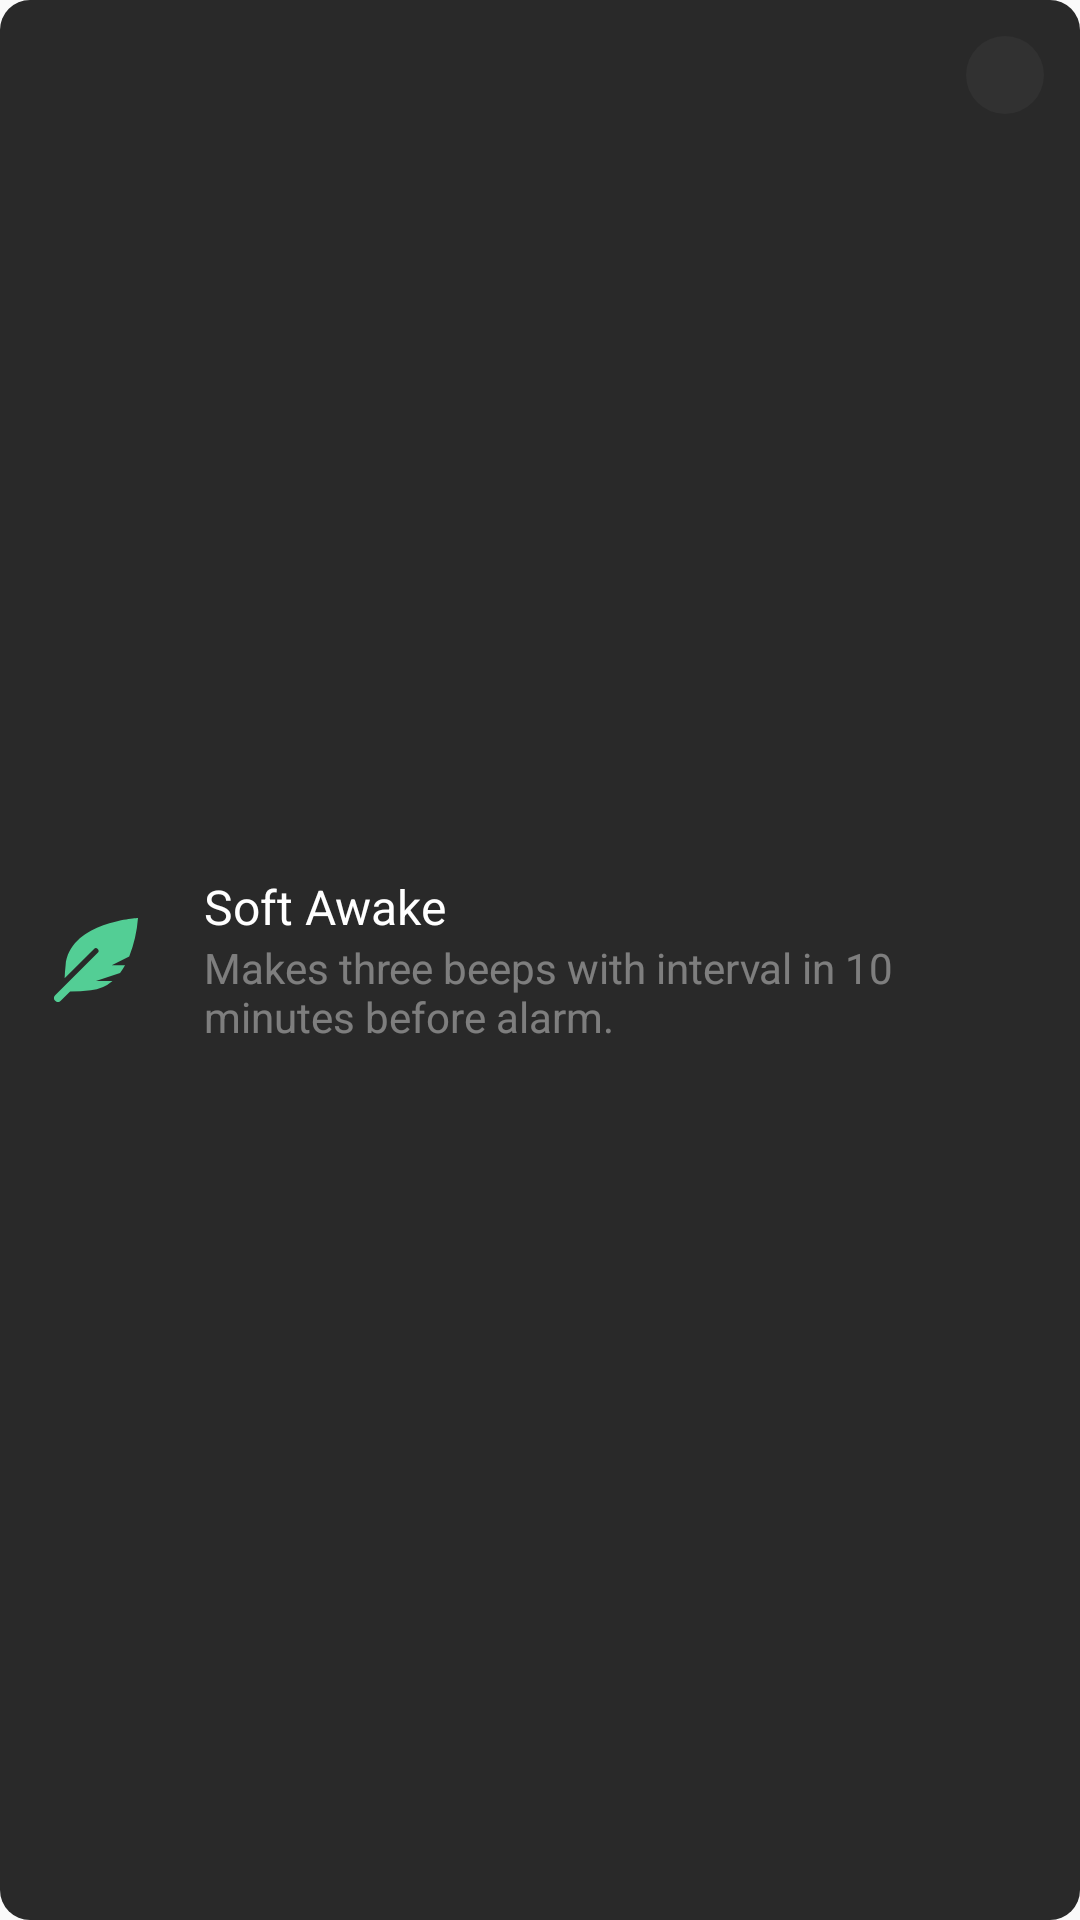

Where to tap for icons on this 1080x1920 app screen, as (x,y):
feather: (96,960)
